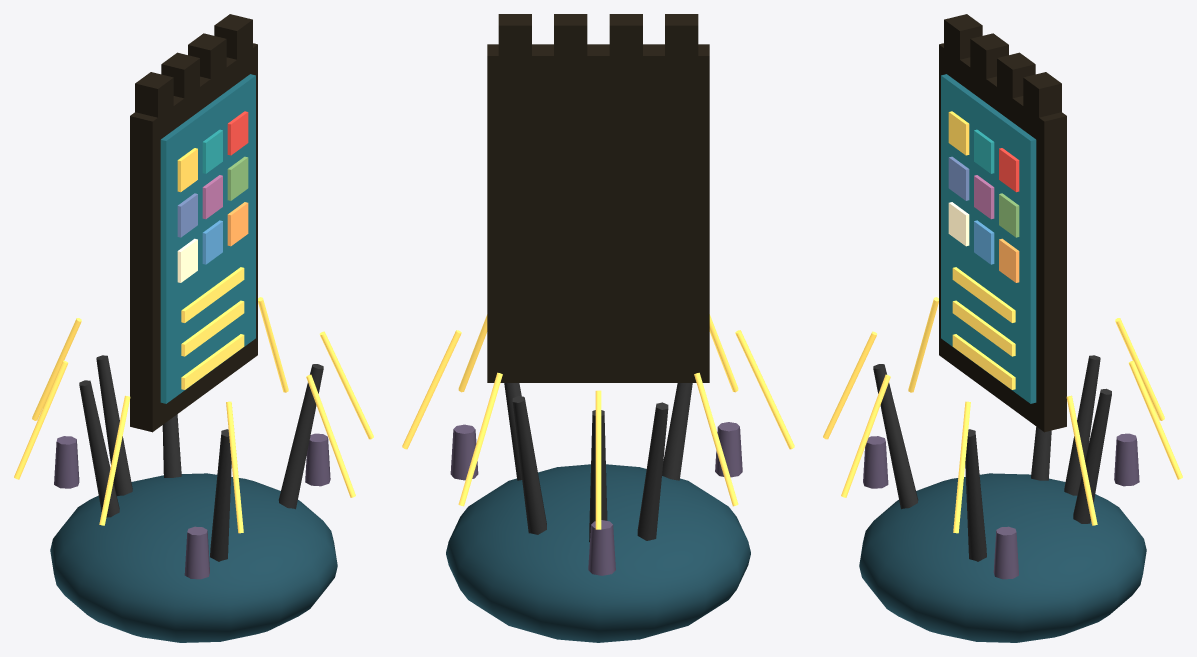
Rendered from data_castle.glb.
The picture shows the model from 3 angles, left to right: view 1: azimuth 30°, elevation 25°; view 2: azimuth 150°, elevation 25°; view 3: azimuth 270°, elevation 25°; orthographic projection. The views are drawn at different scales.
Size of the model in its own units: 1.37 by 2.37 by 1.36.
